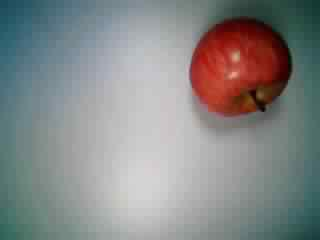apple: (188, 16, 292, 117)
